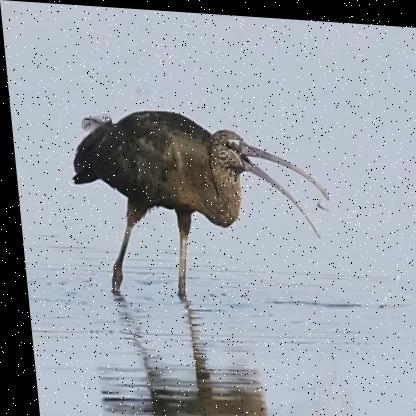Burung: (64, 99, 338, 311)
